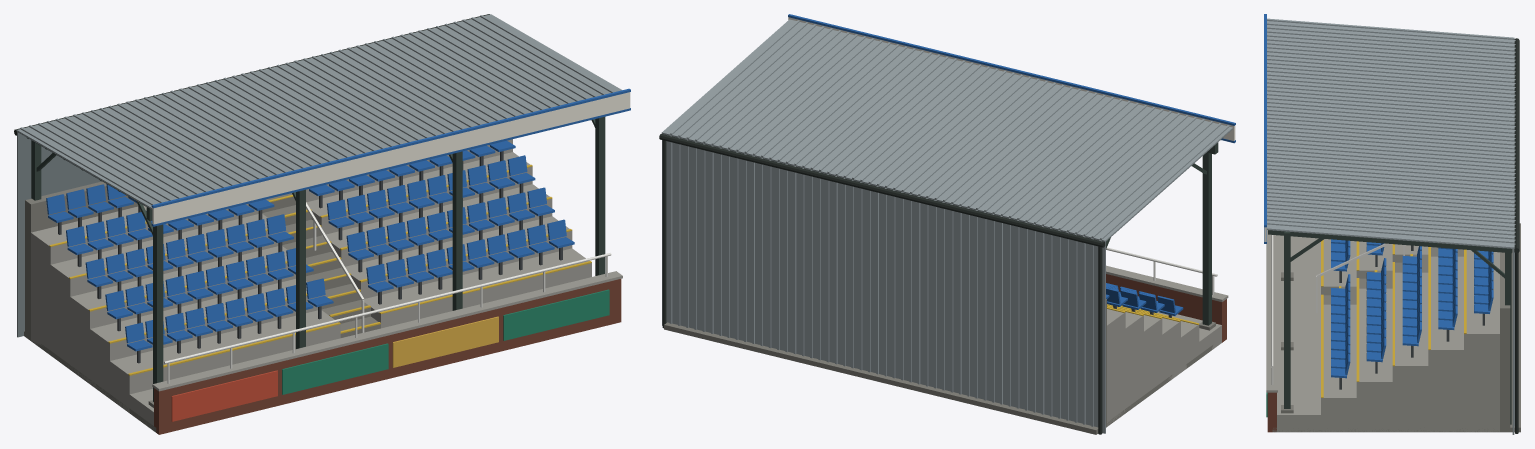
Rendered from the_shed_5.glb.
3 renders of one model, left to right at view 1: azimuth 30°, elevation 25°; view 2: azimuth 150°, elevation 25°; view 3: azimuth 270°, elevation 25°, orthographic. The views are drawn at different scales.
Parts seen in each view (by area): view 1: Shed_Corrugated_Sheet, Shed_Concrete, Shed_Club_Primary_Seats, Shed_Front_Wall, Shed_Club_Secondary_Fascia, Shed_Steel_Frame, Shed_Concrete_Dark, Shed_Advert_2, Shed_Corrugated_Underside, Shed_Seat_Bracket, Shed_Club_Primary_Trim, Shed_Advert_1 (+3 smaller); view 2: Shed_Corrugated_Sheet, Shed_Concrete, Shed_Gutter, Shed_Concrete_Dark, Shed_Club_Primary_Trim, Shed_Steel_Frame, Shed_Front_Wall, Shed_Club_Primary_Seats, Shed_Club_Secondary_Fascia; view 3: Shed_Corrugated_Sheet, Shed_Concrete, Shed_Club_Primary_Seats, Shed_Concrete_Dark, Shed_Steel_Frame, Shed_Gutter, Shed_Step_Edge_Yellow, Shed_Railing_White, Shed_Club_Primary_Trim, Shed_Corrugated_Underside, Shed_Front_Wall, Shed_Seat_Bracket.
Part boxes in pixels (x1,y1,x2,y2): Shed_Corrugated_Sheet: (16, 14, 621, 336); Shed_Concrete: (31, 139, 622, 429); Shed_Club_Primary_Seats: (46, 140, 574, 351); Shed_Front_Wall: (154, 279, 621, 434); Shed_Club_Secondary_Fascia: (152, 92, 630, 224); Shed_Steel_Frame: (27, 117, 605, 401); Shed_Concrete_Dark: (24, 181, 380, 432); Shed_Advert_2: (282, 289, 609, 394); Shed_Corrugated_Underside: (17, 132, 151, 337); Shed_Seat_Bracket: (58, 151, 562, 363); Shed_Club_Primary_Trim: (151, 88, 630, 226); Shed_Advert_1: (171, 370, 277, 421); Shed_Corrugated_Sheet: (661, 19, 1232, 433); Shed_Concrete: (1106, 265, 1228, 426); Shed_Gutter: (659, 134, 1105, 434); Shed_Concrete_Dark: (664, 299, 1215, 434); Shed_Club_Primary_Trim: (788, 14, 1235, 143); Shed_Steel_Frame: (1106, 142, 1218, 325); Shed_Front_Wall: (1106, 274, 1226, 342); Shed_Club_Primary_Seats: (1106, 283, 1183, 315); Shed_Club_Secondary_Fascia: (788, 17, 1235, 140); Shed_Corrugated_Sheet: (1266, 18, 1515, 434); Shed_Concrete: (1266, 230, 1499, 432); Shed_Club_Primary_Seats: (1331, 239, 1493, 378); Shed_Concrete_Dark: (1272, 223, 1520, 432); Shed_Steel_Frame: (1268, 230, 1512, 424); Shed_Gutter: (1514, 38, 1519, 433); Shed_Step_Edge_Yellow: (1321, 240, 1466, 397); Shed_Railing_White: (1271, 234, 1404, 384); Shed_Club_Primary_Trim: (1264, 14, 1266, 243); Shed_Corrugated_Underside: (1267, 229, 1513, 434); Shed_Front_Wall: (1267, 392, 1276, 432); Shed_Seat_Bracket: (1339, 245, 1484, 389).
Size of the model in its own units: 11.88 by 5.51 by 6.1.
